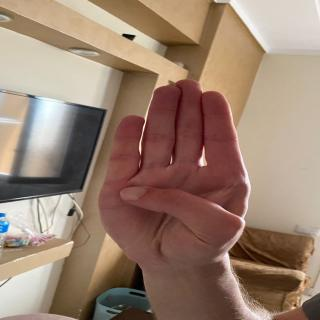KAAF: (89, 68, 261, 277)
